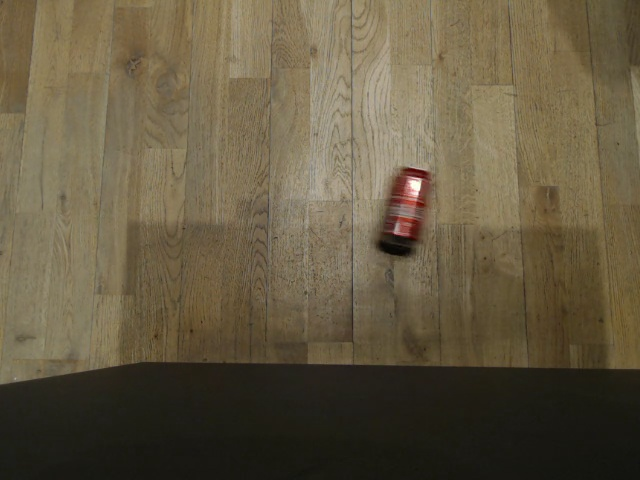coke: (381, 166, 431, 248)
